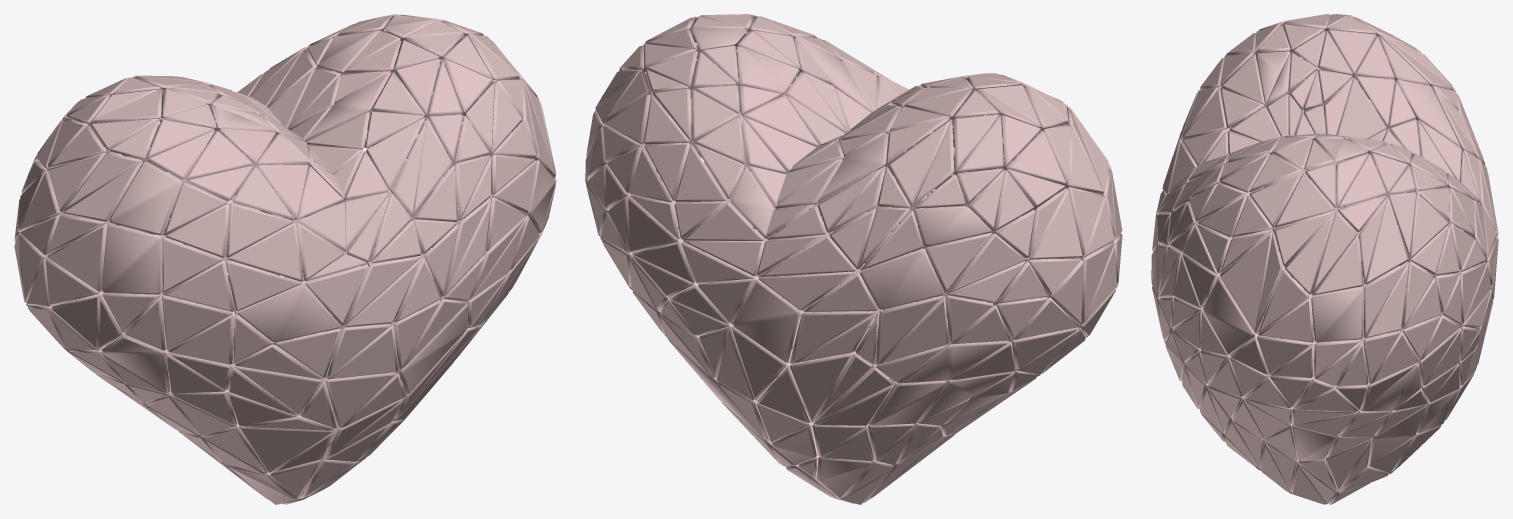
File: PolyHeart.fbx
The picture shows the model from 3 angles, left to right: view 1: azimuth 30°, elevation 25°; view 2: azimuth 150°, elevation 25°; view 3: azimuth 270°, elevation 25°; orthographic projection. The views are drawn at different scales.
Parts seen in each view (by area): view 1: Heart; view 2: Heart; view 3: Heart.
Boxes of the visible parts, x1,y1,x2,y2 form: Heart: (14, 14, 556, 504); Heart: (585, 14, 1122, 504); Heart: (1151, 14, 1498, 504).
Bounding box in the file's own units: 492 × 412 × 308.
